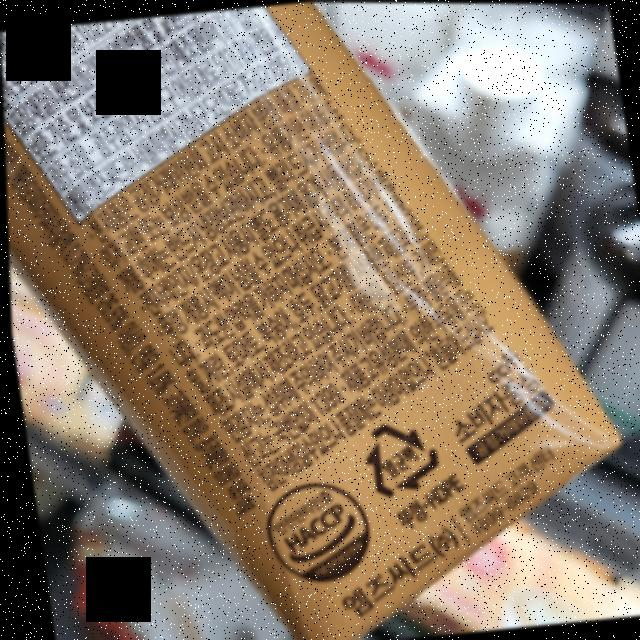SterilizedPack: (356, 417, 440, 497)
